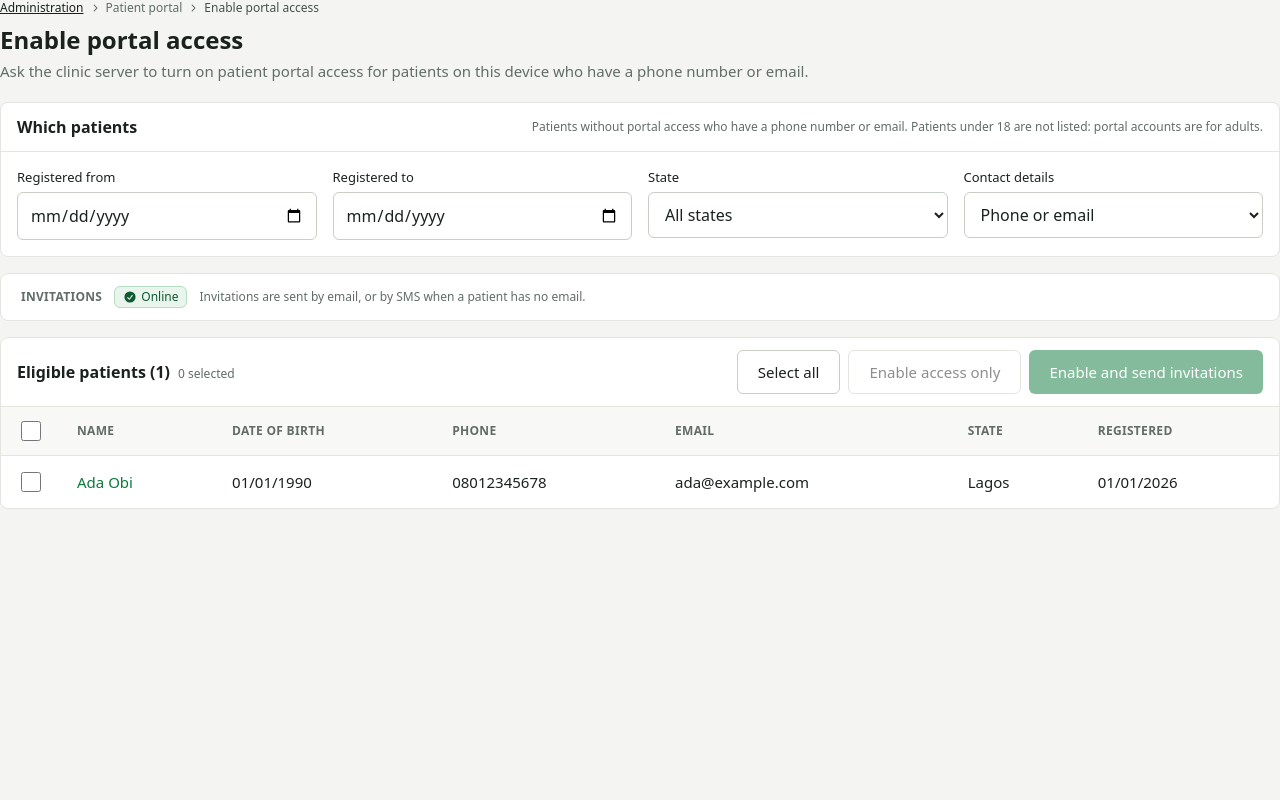
Test case: PortalMigration invitations › offers invitations when signed in online, only to patients the server confirmed
Click the checkbox named "Select Ada Obi" at (31, 482), box [21,472,41,492]
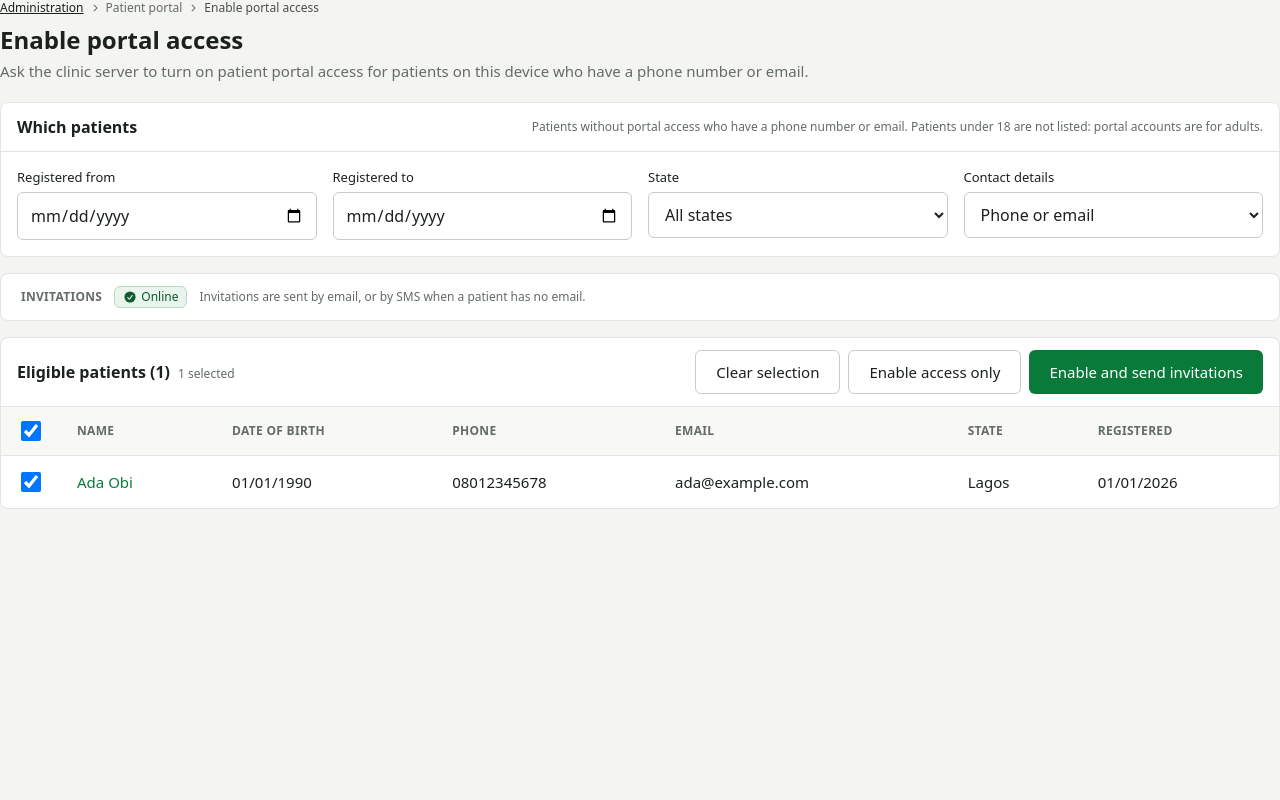
Result: the button "Enable and send invitations" is enabled
Click the button "Enable and send invitations" at (1146, 372), box [1029,350,1263,394]
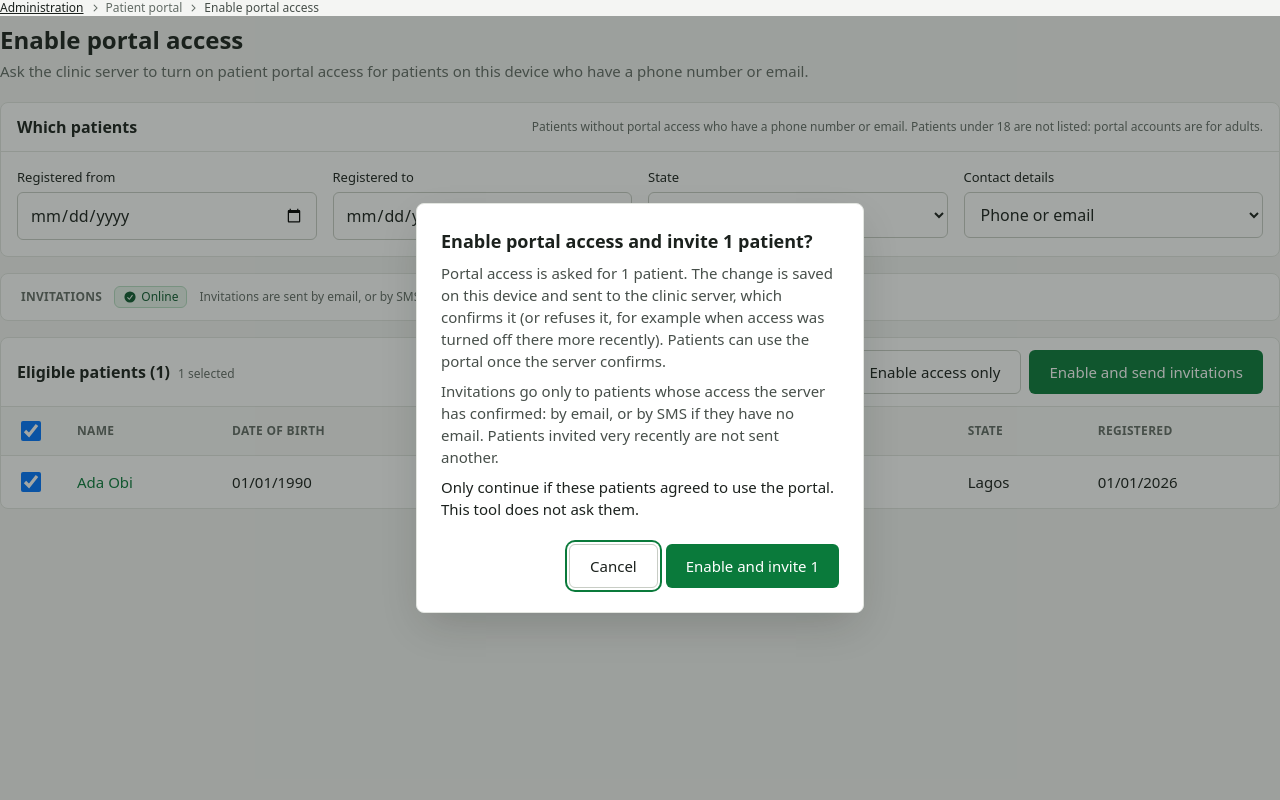
Expected: the dialog does not show "each patient is sent an invitation", [416,203,864,613]
Result: the dialog shows "only to patients whose access the server has confirmed" at [441,381,825,467]
